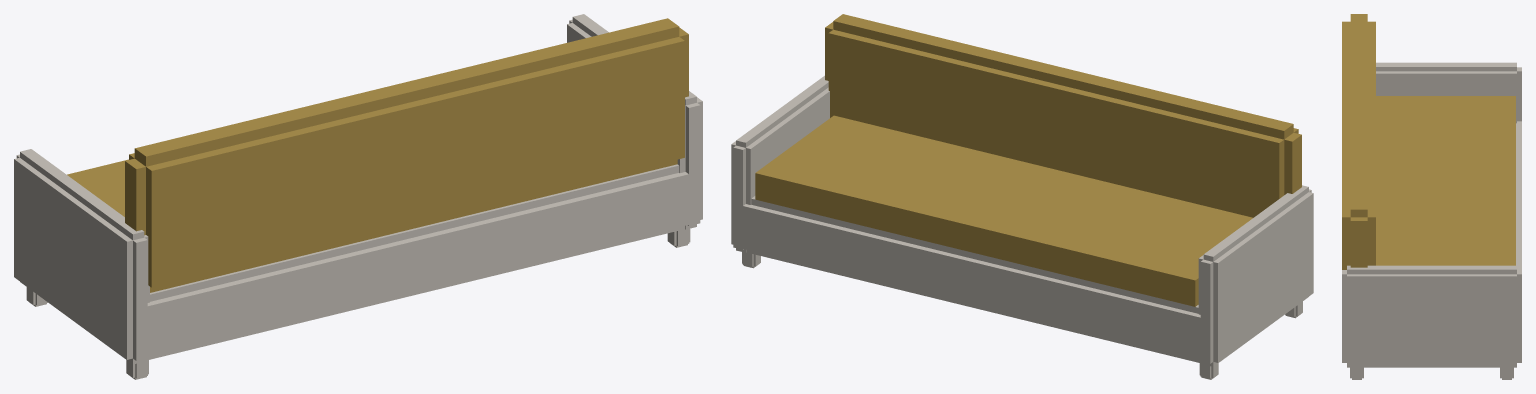
File: marble_sofa_v0.glb
3 renders of one model, left to right at view 1: azimuth 30°, elevation 25°; view 2: azimuth 150°, elevation 25°; view 3: azimuth 270°, elevation 25°, orthographic. The views are drawn at different scales.
Parts seen in each view (by area): view 1: marble_sofa_v0; view 2: marble_sofa_v0; view 3: marble_sofa_v0.
Part boxes in pixels (<box>): marble_sofa_v0: <box>14,14,702,379</box>; marble_sofa_v0: <box>731,14,1313,379</box>; marble_sofa_v0: <box>1342,14,1521,379</box>.
Size of the model in its own units: 2.5 by 0.92 by 0.9.
